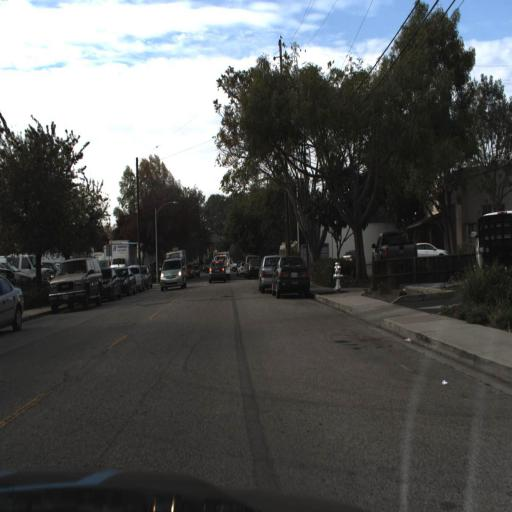car: (366, 216, 422, 291), (44, 254, 105, 318), (270, 244, 312, 306), (368, 230, 418, 270), (0, 269, 26, 338), (157, 251, 192, 299), (415, 230, 452, 264), (254, 253, 277, 302), (255, 251, 276, 296), (99, 263, 121, 302), (115, 266, 138, 301), (205, 254, 227, 286), (337, 240, 362, 268), (100, 262, 114, 303)
